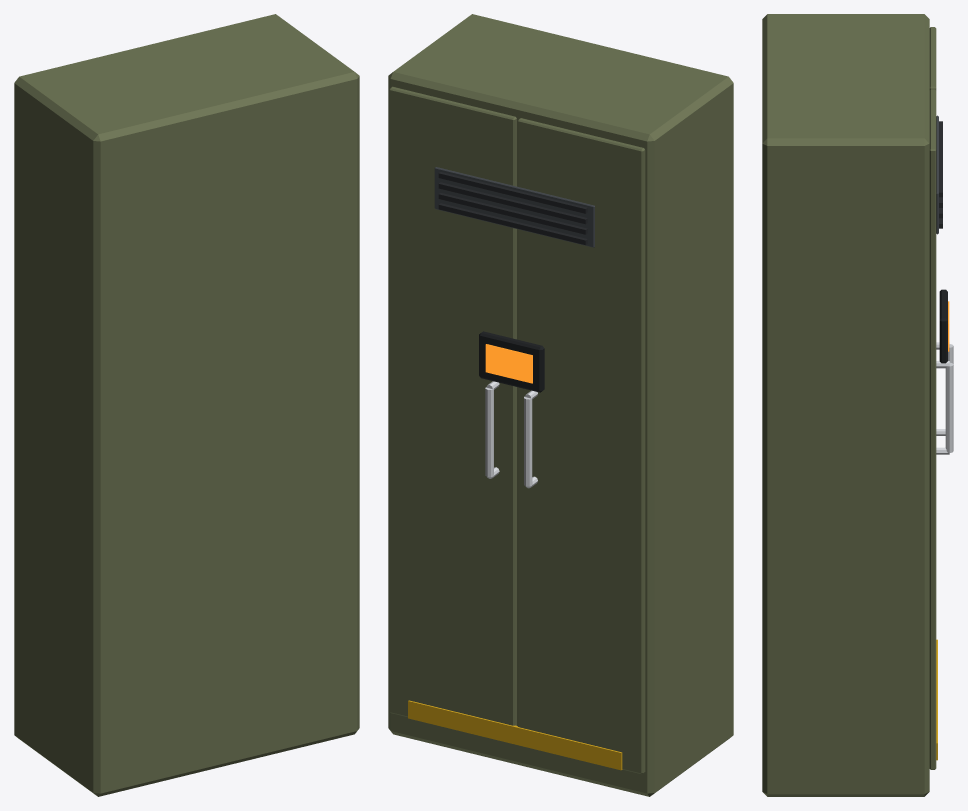
Rendered from weapons_locker.glb.
3 renders of one model, left to right at view 1: azimuth 30°, elevation 25°; view 2: azimuth 150°, elevation 25°; view 3: azimuth 270°, elevation 25°, orthographic.
Parts seen in each view (by area): view 1: weapons_locker; view 2: weapons_locker; view 3: weapons_locker.
Boxes of the visible parts, bbox=[...] form: weapons_locker: bbox=[14, 14, 359, 796]; weapons_locker: bbox=[388, 14, 733, 796]; weapons_locker: bbox=[762, 14, 953, 796].
Size of the model in its own units: 0.8 by 1.9 by 0.5.
